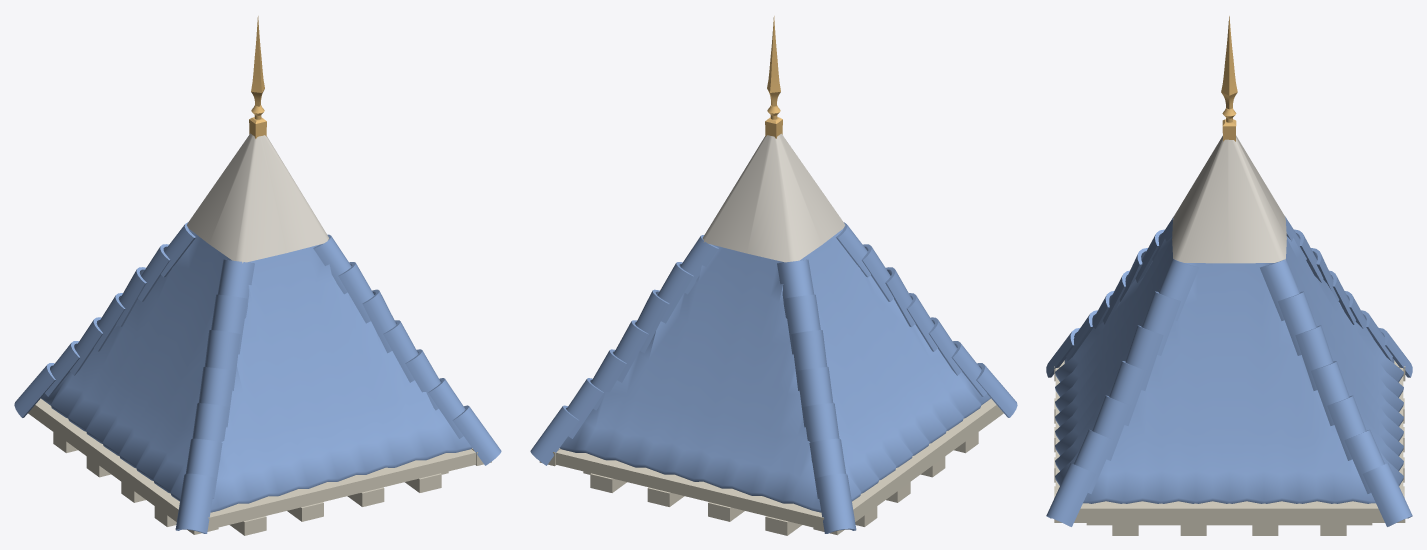
File: Roof_Tower_RoundTiles.glb
3 renders of one model, left to right at view 1: azimuth 30°, elevation 25°; view 2: azimuth 150°, elevation 25°; view 3: azimuth 270°, elevation 25°, orthographic. The views are drawn at different scales.
Parts seen in each view (by area): view 1: Roof_Tower_RoundTiles; view 2: Roof_Tower_RoundTiles; view 3: Roof_Tower_RoundTiles.
Boxes of the visible parts, x1,y1,x2,y2 form: Roof_Tower_RoundTiles: [14, 16, 501, 535]; Roof_Tower_RoundTiles: [530, 16, 1017, 535]; Roof_Tower_RoundTiles: [1046, 16, 1412, 535].
Size of the model in its own units: 5.65 by 7.36 by 5.43.
